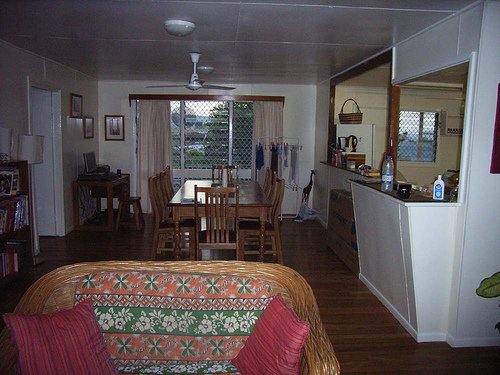bottle: (434, 175, 444, 200)
chair: (4, 304, 118, 374), (237, 175, 285, 263), (148, 171, 196, 258), (196, 187, 240, 260), (149, 170, 180, 259), (78, 182, 118, 230), (116, 178, 143, 230), (212, 166, 239, 188)
couch: (24, 261, 342, 375)
dining table: (170, 173, 283, 217)
